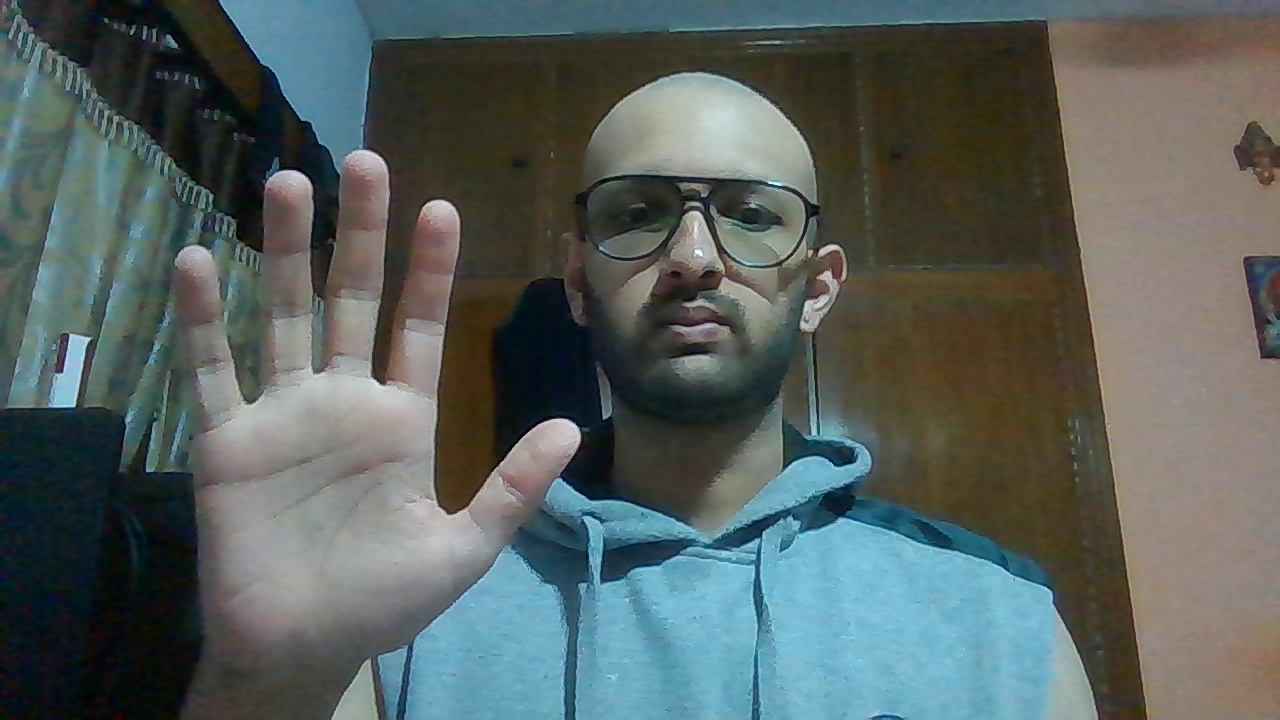Hello: (167, 147, 583, 642)
